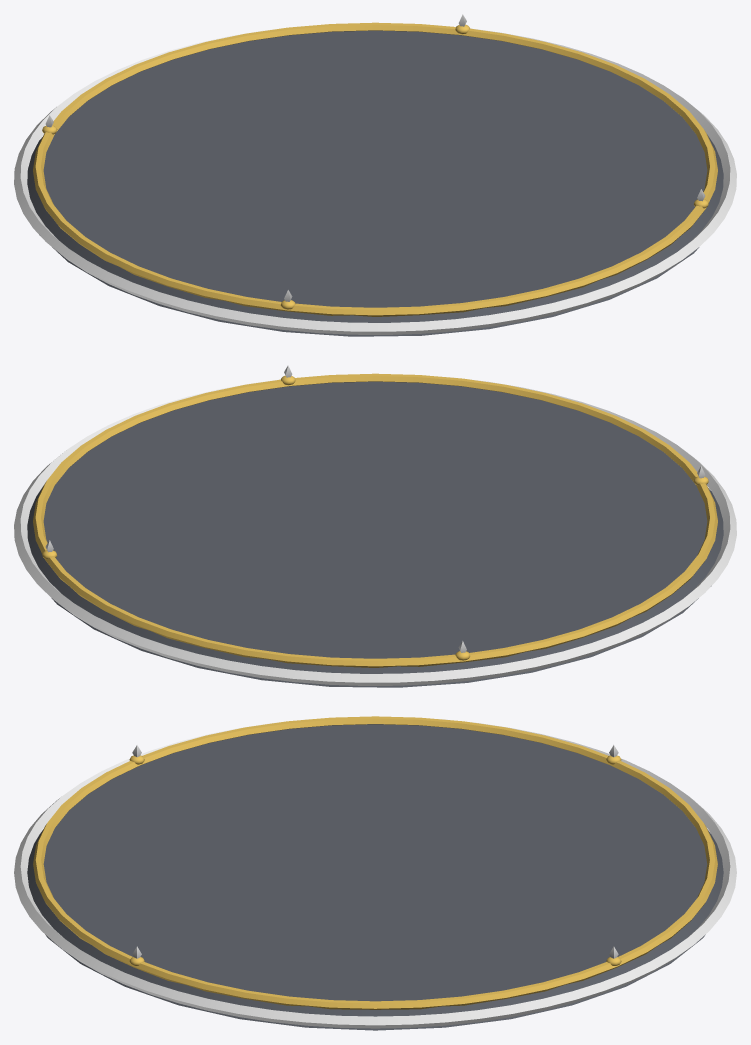
Rendered from base_large_s4.fbx.
3 renders of one model, top to bottom at view 1: azimuth 30°, elevation 25°; view 2: azimuth 150°, elevation 25°; view 3: azimuth 270°, elevation 25°, orthographic.
Visible parts, largest first — view 1: base_large_s4; view 2: base_large_s4; view 3: base_large_s4.
Boxes of the visible parts, x1=… form: base_large_s4: x1=14, y1=14, x2=736, y2=336; base_large_s4: x1=14, y1=365, x2=736, y2=687; base_large_s4: x1=14, y1=716, x2=736, y2=1030.
Size of the model in its own units: 3.26 by 0.175 by 3.26.
Materials: 2 (1 with a texture image).
